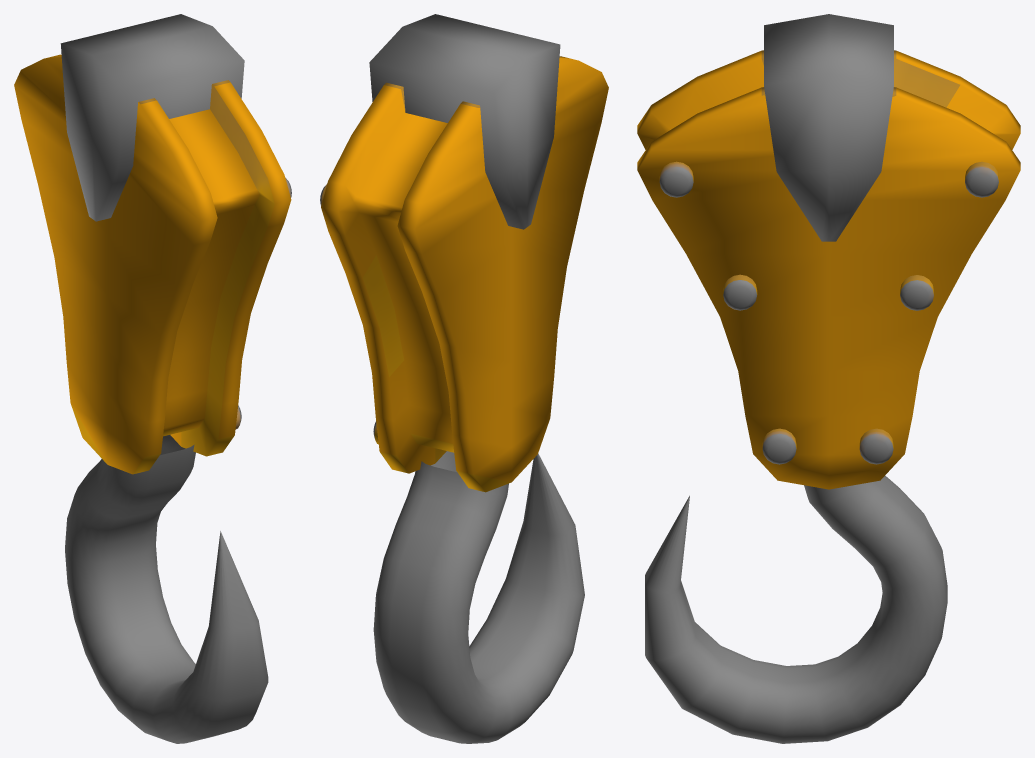
File: gc_04_hook.glb
3 views of the same model, side by side, from view 1: azimuth 30°, elevation 25°; view 2: azimuth 150°, elevation 25°; view 3: azimuth 270°, elevation 25° (orthographic). The views are drawn at different scales.
Visible parts, largest first — view 1: hook; view 2: hook; view 3: hook.
Part boxes in pixels (bbox=[...]): hook: bbox=[14, 14, 291, 743]; hook: bbox=[320, 14, 608, 743]; hook: bbox=[637, 14, 1020, 743].
Bounding box in the file's own units: 0.2474 × 1.32 × 0.6661.
2 materials, 1 textured.
